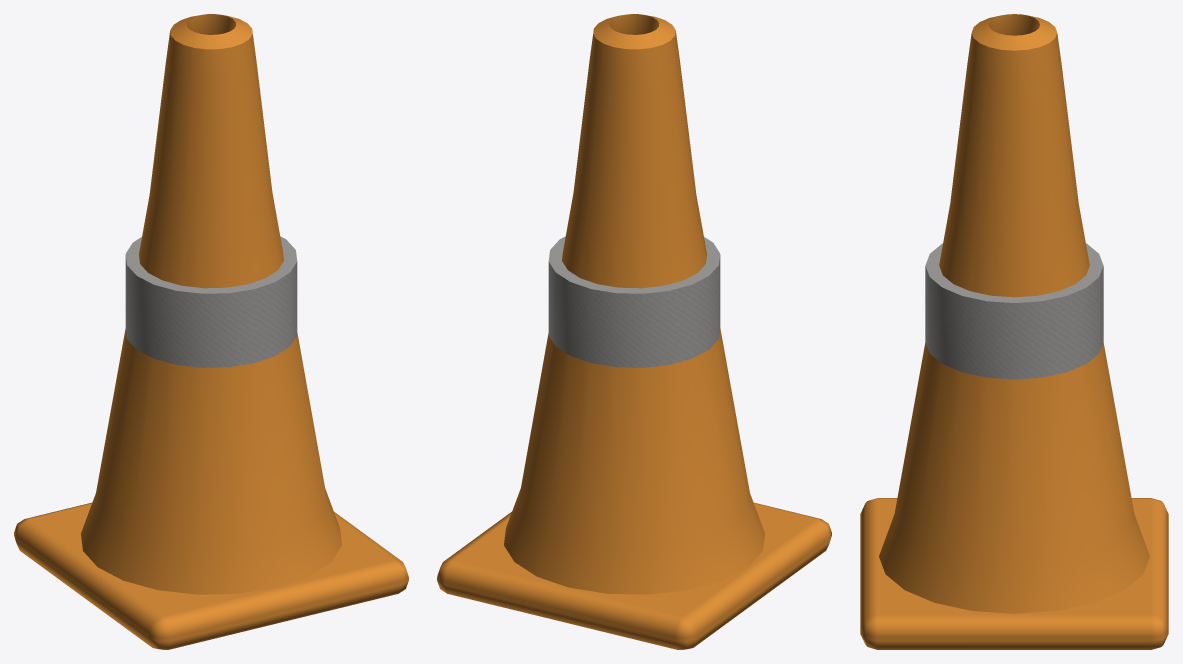
Rendered from battle-royale-town-and-airfield-traffic-cone-72e6f7fb__28267.glb.
3 views of the same model, side by side, from view 1: azimuth 30°, elevation 25°; view 2: azimuth 150°, elevation 25°; view 3: azimuth 270°, elevation 25° (orthographic). The views are drawn at different scales.
Parts seen in each view (by area): view 1: traffic-cone; view 2: traffic-cone; view 3: traffic-cone.
Part boxes in pixels (box(x1,y1,x2,y2)): traffic-cone: box(14, 14, 408, 649); traffic-cone: box(437, 14, 831, 649); traffic-cone: box(860, 14, 1168, 649).
Bounding box in the file's own units: 0.36 × 0.73 × 0.36.
Materials: 2 (1 with a texture image).
